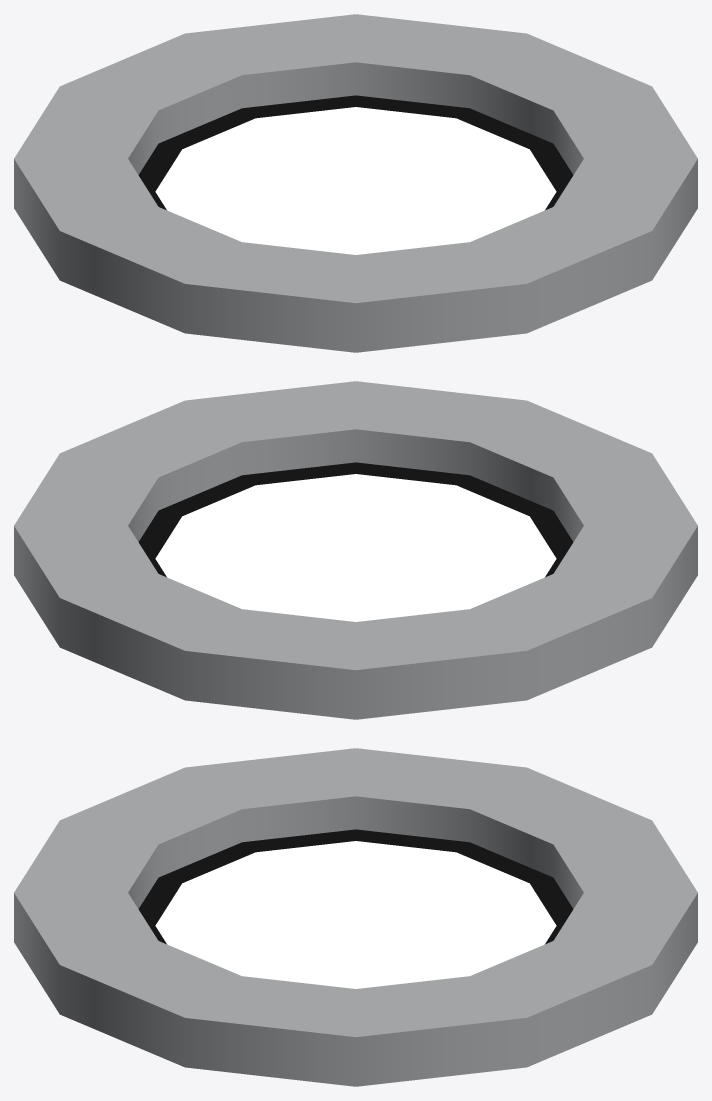
Rendered from gteki_luminaire_downlight_d150.glb.
3 renders of one model, top to bottom at view 1: azimuth 30°, elevation 25°; view 2: azimuth 150°, elevation 25°; view 3: azimuth 270°, elevation 25°, orthographic.
Parts seen in each view (by area): view 1: VIS_body; view 2: VIS_body; view 3: VIS_body.
Part boxes in pixels (<box>): VIS_body: <box>14,14,697,352</box>; VIS_body: <box>14,381,697,719</box>; VIS_body: <box>14,748,697,1086</box>.
Size of the model in its own units: 0.15 by 0.012 by 0.15.
Materials: 1 (1 with a texture image).
